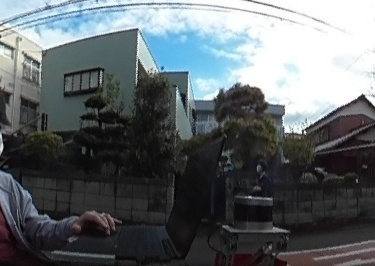person: (254, 156, 275, 194)
